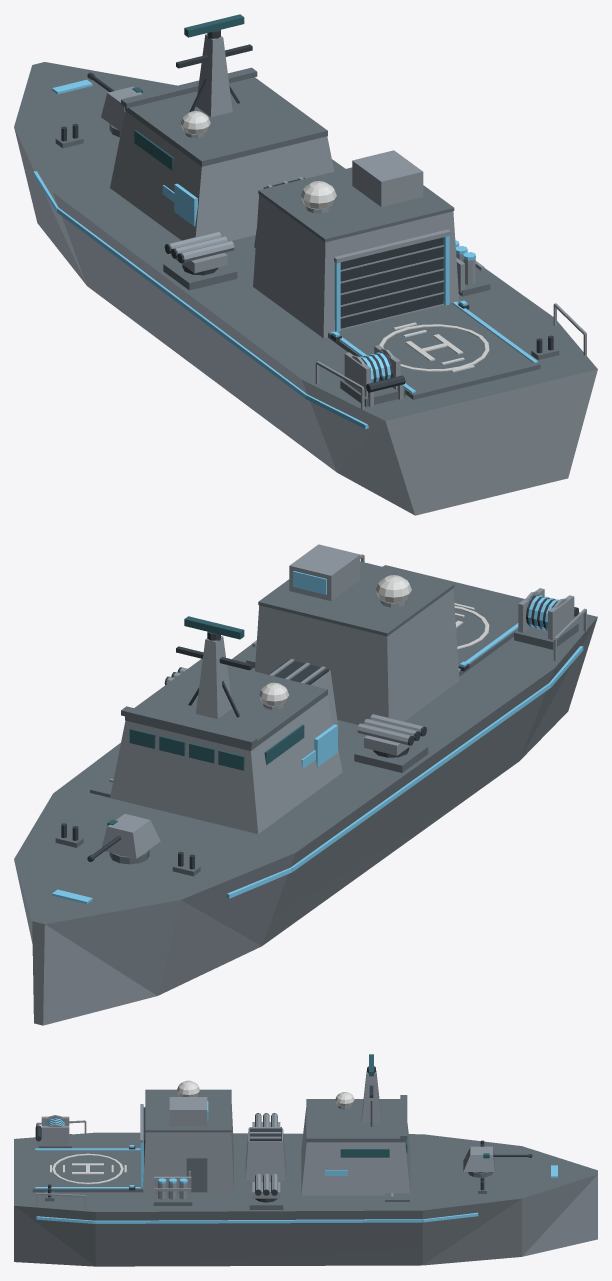
The model's file is ESC_ASW_T3.fbx.
3 views of the same model, one above another, from view 1: azimuth 30°, elevation 25°; view 2: azimuth 150°, elevation 25°; view 3: azimuth 270°, elevation 25° (orthographic). The views are drawn at different scales.
Visible parts, largest first — view 1: ContinuousHull.007, Deckhouse.007, HelicopterHangar.001, HelicopterDeck, Roof.007, AftFacingHangarDoor, HangarRoof, AcousticControlCabinet, NavMast.003, RoleHullStripe-1_1, BridgeBrow, TorpedoFoot_P (+7 smaller); view 2: ContinuousHull.007, Deckhouse.007, HelicopterHangar.001, Roof.007, HangarRoof, HelicopterDeck, AcousticControlCabinet, NavMast.003, PrimaryGunCupola.007, RoleHullStripe-1_1, BridgeBrow, TorpedoFoot_P (+6 smaller); view 3: ContinuousHull.007, Deckhouse.007, HelicopterHangar.001, HelicopterDeck, Roof.007, HangarRoof, FunnelEnclosure.007, RoleHullStripe1_1, AcousticControlCabinet, NavMast.003, PrimaryGunCupola.007, HangarPersonnelHatch (+9 smaller).
Boxes of the visible parts, bbox=[...] form: ContinuousHull.007: bbox=[14, 62, 597, 515]; Deckhouse.007: bbox=[110, 111, 334, 241]; HelicopterHangar.001: bbox=[253, 194, 459, 338]; HelicopterDeck: bbox=[328, 302, 540, 399]; Roof.007: bbox=[125, 77, 327, 166]; AftFacingHangarDoor: bbox=[340, 237, 443, 328]; HangarRoof: bbox=[258, 167, 454, 242]; AcousticControlCabinet: bbox=[352, 150, 423, 206]; NavMast.003: bbox=[196, 34, 232, 116]; RoleHullStripe-1_1: bbox=[56, 207, 306, 398]; BridgeBrow: bbox=[121, 67, 257, 108]; TorpedoFoot_P: bbox=[163, 261, 237, 290]; ContinuousHull.007: bbox=[14, 565, 597, 1025]; Deckhouse.007: bbox=[110, 695, 342, 833]; HelicopterHangar.001: bbox=[255, 588, 459, 724]; Roof.007: bbox=[125, 659, 327, 750]; HangarRoof: bbox=[258, 561, 454, 636]; HelicopterDeck: bbox=[453, 591, 518, 676]; AcousticControlCabinet: bbox=[289, 544, 360, 600]; NavMast.003: bbox=[196, 636, 232, 718]; PrimaryGunCupola.007: bbox=[101, 814, 160, 858]; RoleHullStripe-1_1: bbox=[291, 683, 550, 872]; BridgeBrow: bbox=[121, 706, 257, 747]; TorpedoFoot_P: bbox=[354, 743, 428, 772]; ContinuousHull.007: bbox=[14, 1132, 597, 1266]; Deckhouse.007: bbox=[301, 1108, 410, 1195]; HelicopterHangar.001: bbox=[143, 1104, 233, 1193]; HelicopterDeck: bbox=[32, 1149, 142, 1192]; Roof.007: bbox=[306, 1099, 405, 1142]; HangarRoof: bbox=[145, 1089, 231, 1132]; FunnelEnclosure.007: bbox=[245, 1128, 285, 1180]; RoleHullStripe1_1: bbox=[95, 1219, 422, 1223]; AcousticControlCabinet: bbox=[169, 1097, 207, 1126]; NavMast.003: bbox=[361, 1070, 381, 1122]; PrimaryGunCupola.007: bbox=[463, 1146, 494, 1171]; HangarPersonnelHatch: bbox=[186, 1157, 207, 1192].
Bounding box in the file's own units: 290 × 310 × 900.
